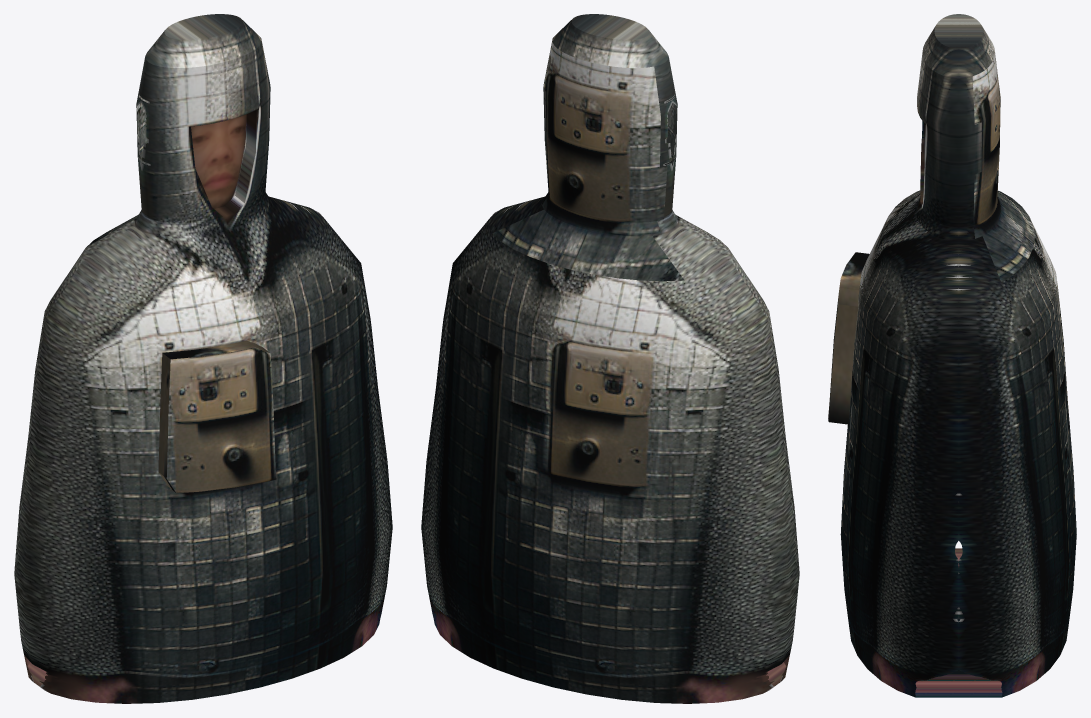
The model's file is terayamakatyou1006.fbx.
3 views of the same model, side by side, from view 1: azimuth 30°, elevation 25°; view 2: azimuth 150°, elevation 25°; view 3: azimuth 270°, elevation 25° (orthographic). The views are drawn at different scales.
Visible parts, largest first — view 1: entyuu69; view 2: entyuu69; view 3: entyuu69.
Boxes of the visible parts, x1,y1,x2,y2 form: entyuu69: (14,14,392,703); entyuu69: (421,14,799,703); entyuu69: (828,14,1076,697).
Bounding box in the file's own units: 137 × 225 × 85.4.
1 material, 1 textured.
